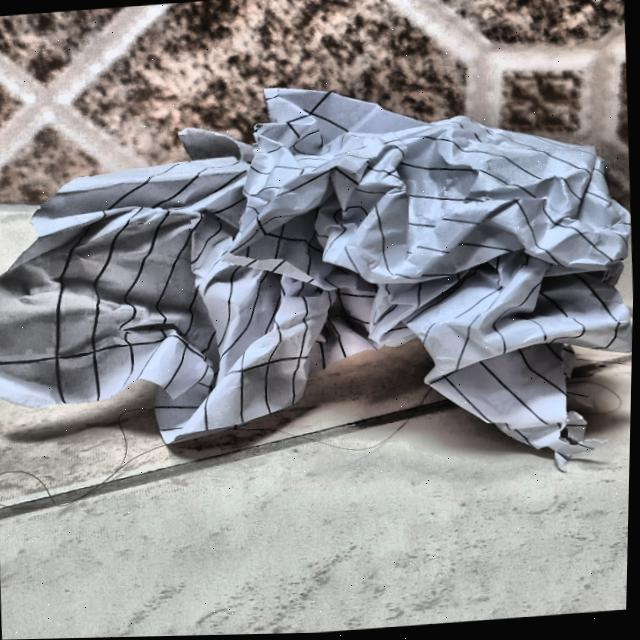paper: (0, 72, 639, 484)
